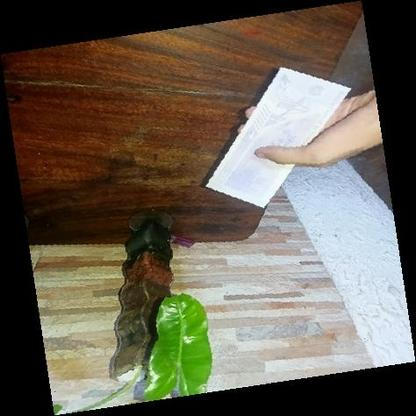two_hundred-back-vef: (204, 64, 352, 209)
